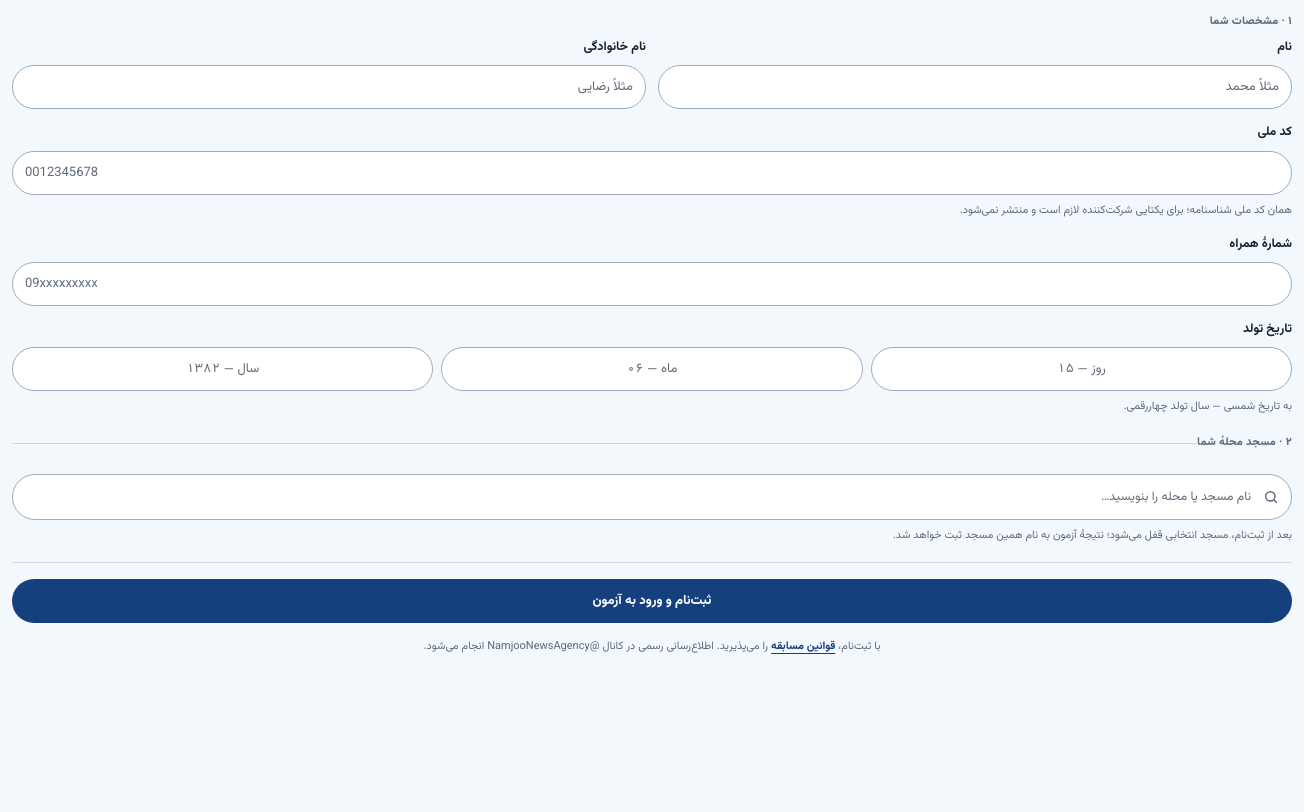
Test: ورودِ بازگشتی › ادامه، فرم را دوباره ارسال نمی‌کند (ثبت‌نامِ تکراری ممنوع)
The image size is (1304, 812).
In the field labelled "شمارهٔ همراه": [652, 284] box [12,262,1292,306], type "09121234567"
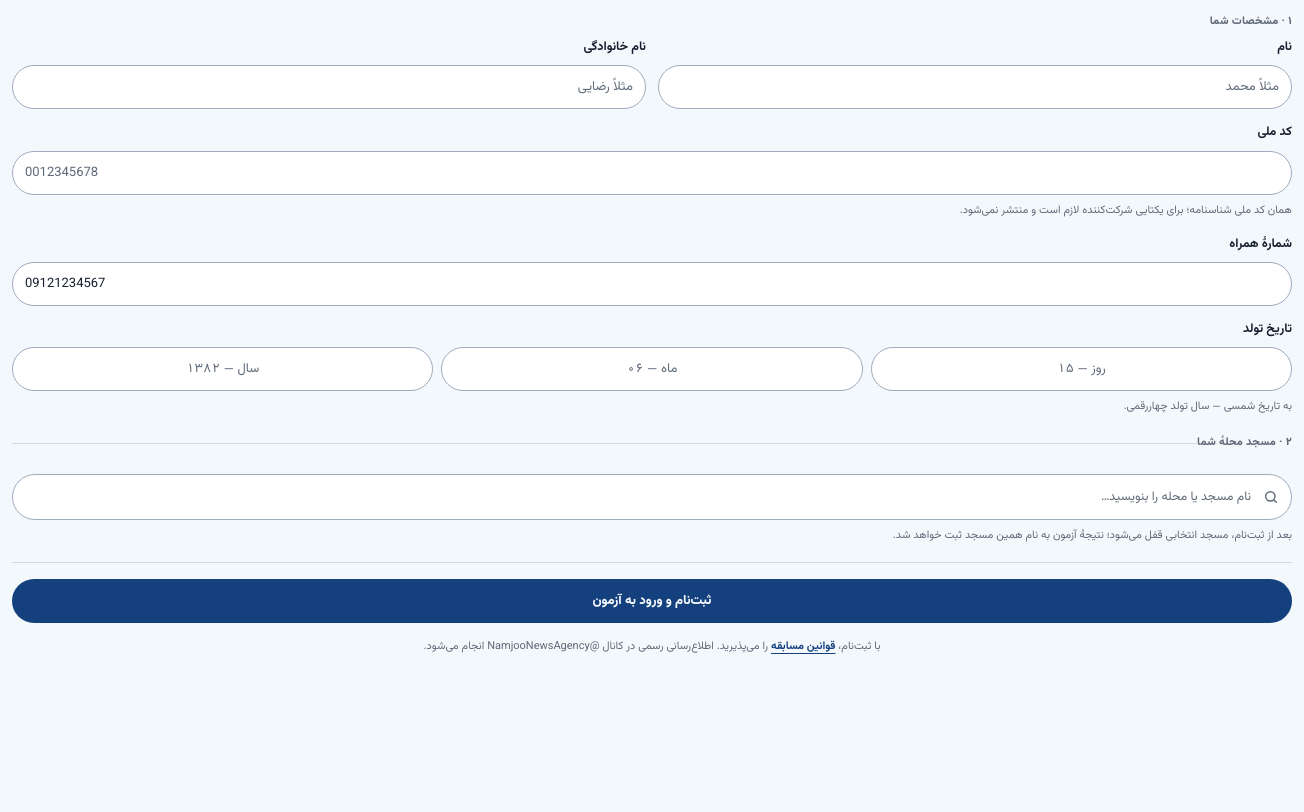
In the field labelled "کد ملی": [652, 173] box [12,151,1292,195], type "0013542419"
Wait 800 ms
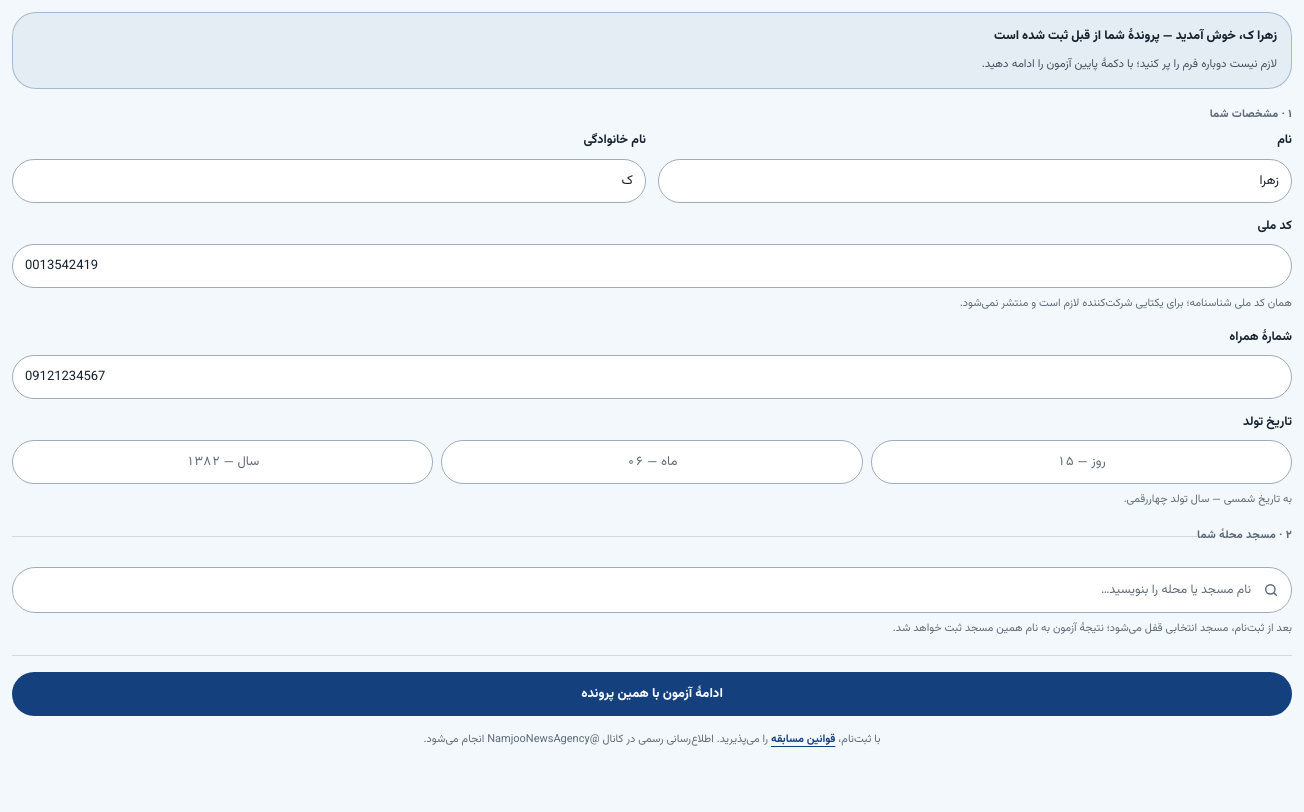
expect the button "ادامهٔ آزمون با همین پرونده" is shown: met
Click the button "ادامهٔ آزمون با همین پرونده": [652, 694] box [12,672,1292,716]
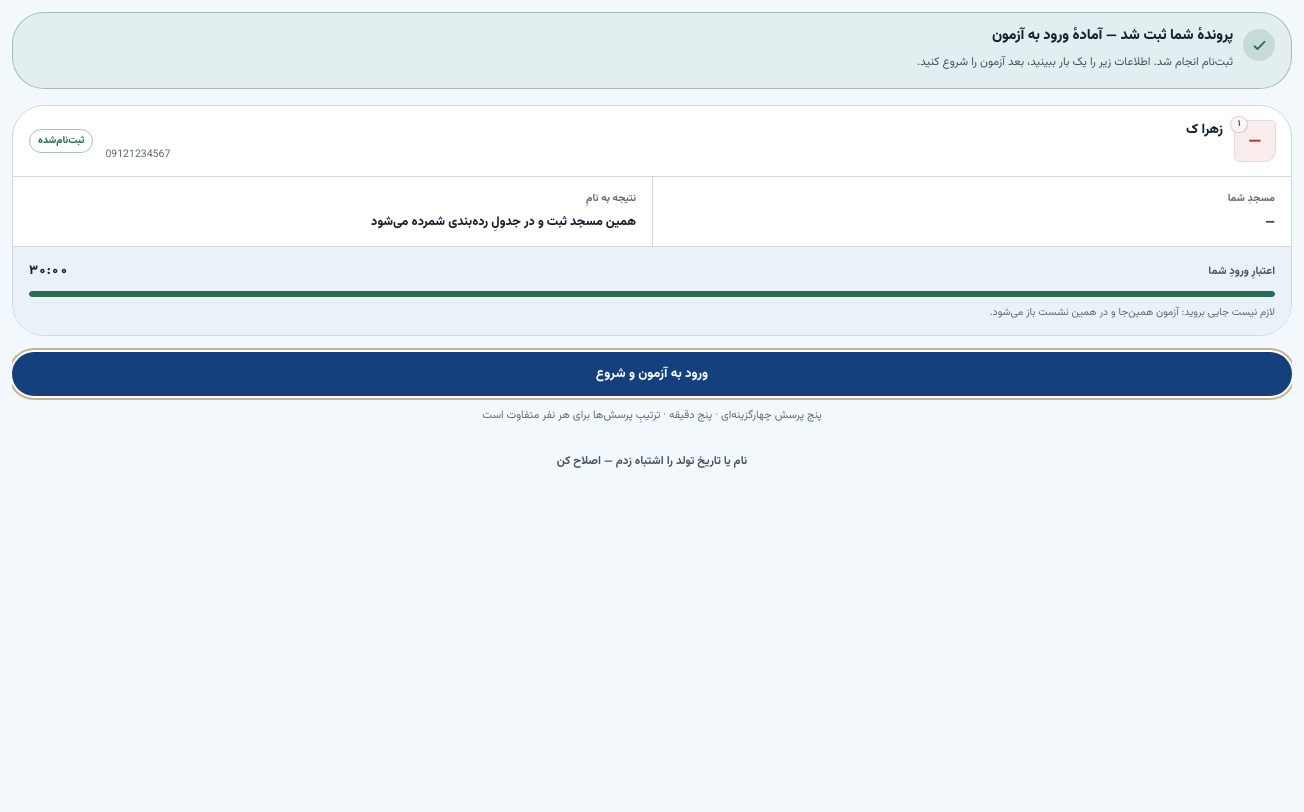
expect the heading "پروندهٔ شما ثبت شد — آمادهٔ ورود به آزمون" is shown: met, box [992,24,1233,47]
